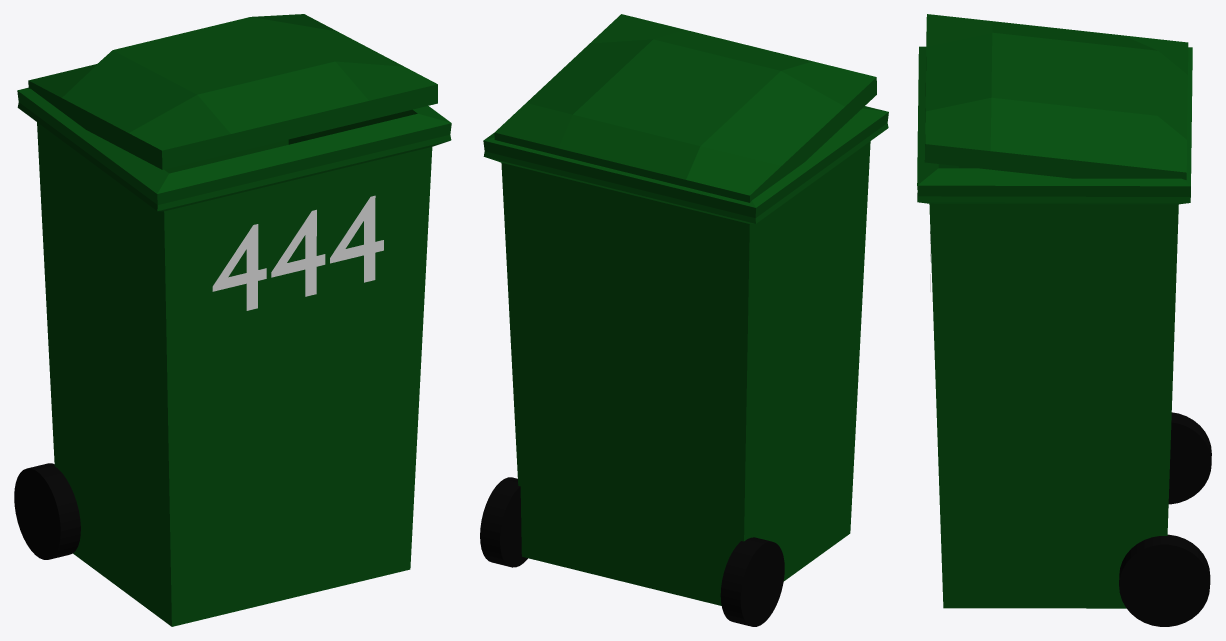
The model's file is WheelyBinGreen.fbx.
3 views of the same model, side by side, from view 1: azimuth 30°, elevation 25°; view 2: azimuth 150°, elevation 25°; view 3: azimuth 270°, elevation 25° (orthographic). The views are drawn at different scales.
Parts seen in each view (by area): view 1: WheelyBinGreen, WheelyBinLid, WheelyBinText, WheelyBinWheels; view 2: WheelyBinGreen, WheelyBinLid, WheelyBinWheels; view 3: WheelyBinGreen, WheelyBinLid, WheelyBinWheels.
Boxes of the visible parts, x1,y1,x2,y2 form: WheelyBinGreen: (17,87,451,626); WheelyBinLid: (28,14,437,169); WheelyBinText: (212,195,383,310); WheelyBinWheels: (14,463,80,559); WheelyBinGreen: (483,106,888,605); WheelyBinLid: (494,14,876,202); WheelyBinWheels: (480,477,784,626); WheelyBinGreen: (917,46,1192,608); WheelyBinLid: (924,14,1188,179); WheelyBinWheels: (1119,412,1211,626).
Bounding box in the file's own units: 56.72 × 50.64 × 93.8.
